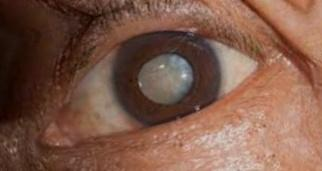eye: (110, 33, 218, 123)
